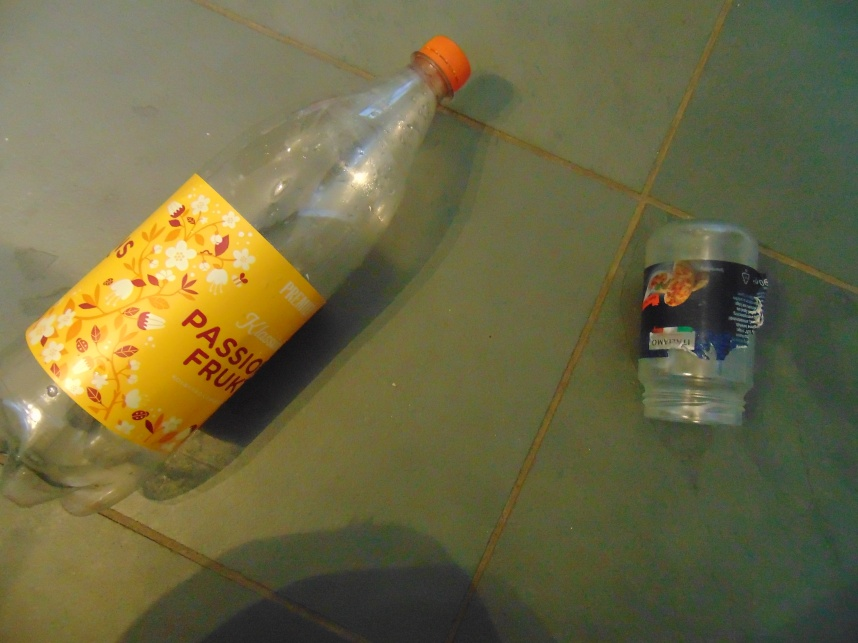glass_bottle: (635, 220, 762, 432)
plastic_bottle: (1, 33, 472, 516)
